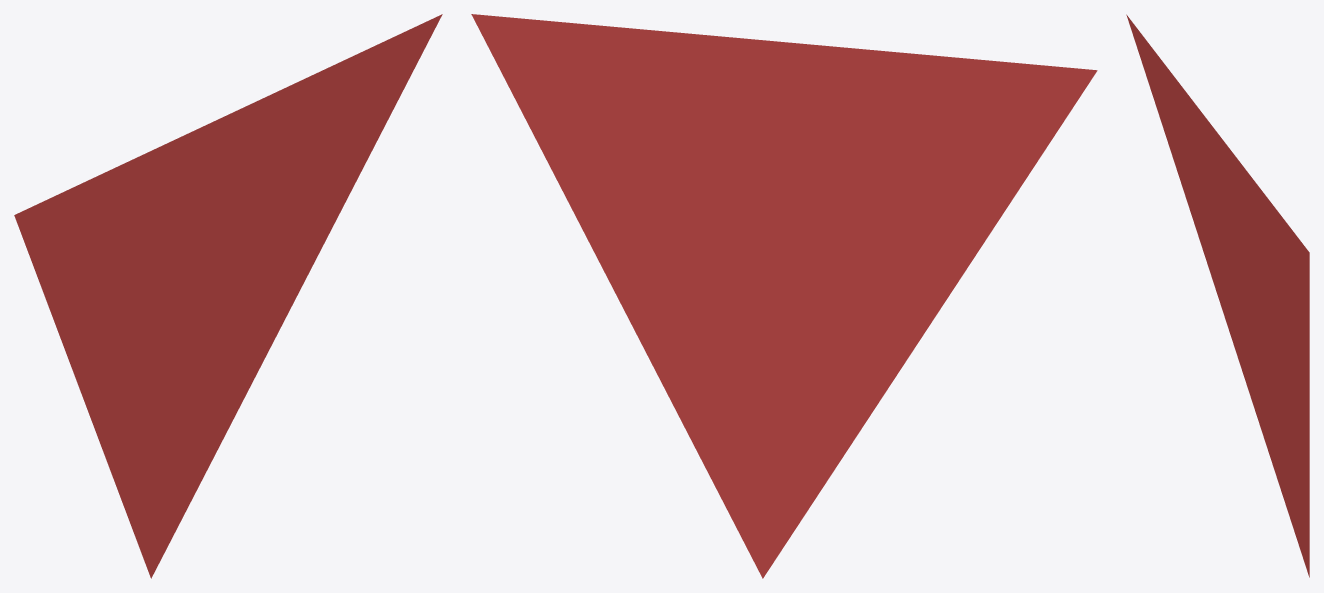
File: 20_red.fbx
3 views of the same model, side by side, from view 1: azimuth 30°, elevation 25°; view 2: azimuth 150°, elevation 25°; view 3: azimuth 270°, elevation 25° (orthographic). The views are drawn at different scales.
Parts seen in each view (by area): view 1: 20_red; view 2: 20_red; view 3: 20_red.
Part boxes in pixels (bbox=[...]): 20_red: bbox=[14, 14, 442, 578]; 20_red: bbox=[471, 14, 1097, 578]; 20_red: bbox=[1126, 14, 1309, 577].
Bounding box in the file's own units: 88.22 × 78.91 × 28.67.
